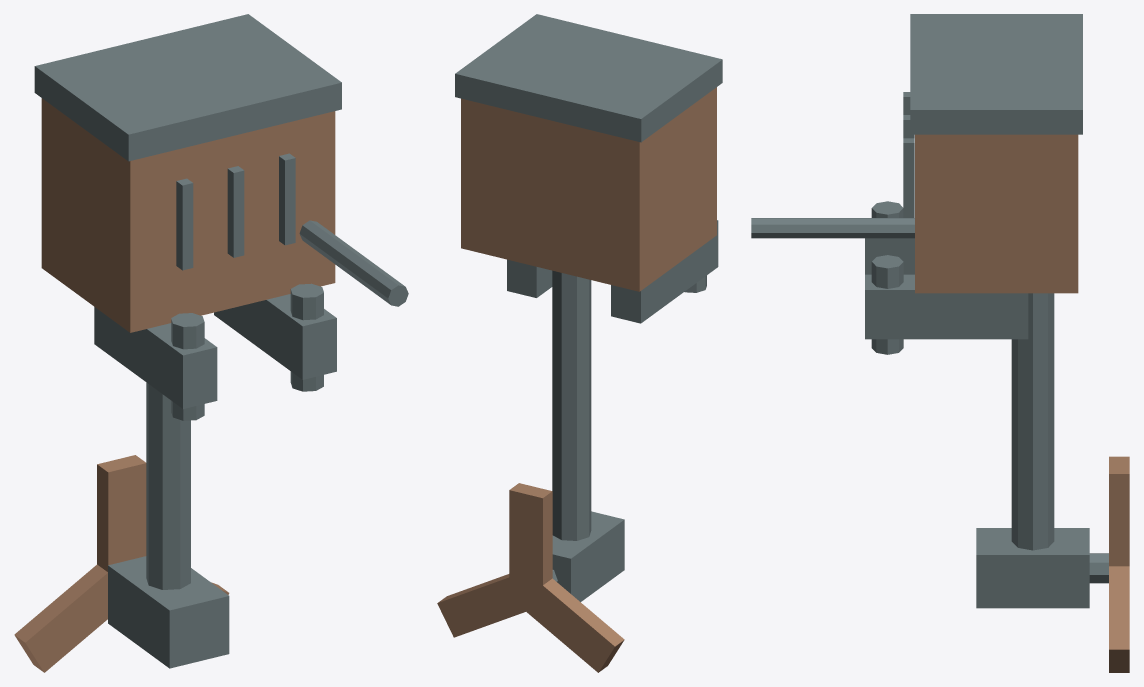
The model's file is campaign_raft_motor.glb.
3 views of the same model, side by side, from view 1: azimuth 30°, elevation 25°; view 2: azimuth 150°, elevation 25°; view 3: azimuth 270°, elevation 25° (orthographic). The views are drawn at different scales.
Visible parts, largest first — view 1: campaign_raft_motor; view 2: campaign_raft_motor; view 3: campaign_raft_motor.
Boxes of the visible parts, left/top/right/bottom form: campaign_raft_motor: left=14, top=14, right=408, bottom=672; campaign_raft_motor: left=437, top=14, right=722, bottom=672; campaign_raft_motor: left=751, top=14, right=1129, bottom=672.
Bounding box in the file's own units: 0.5 × 1.39 × 0.8325.
